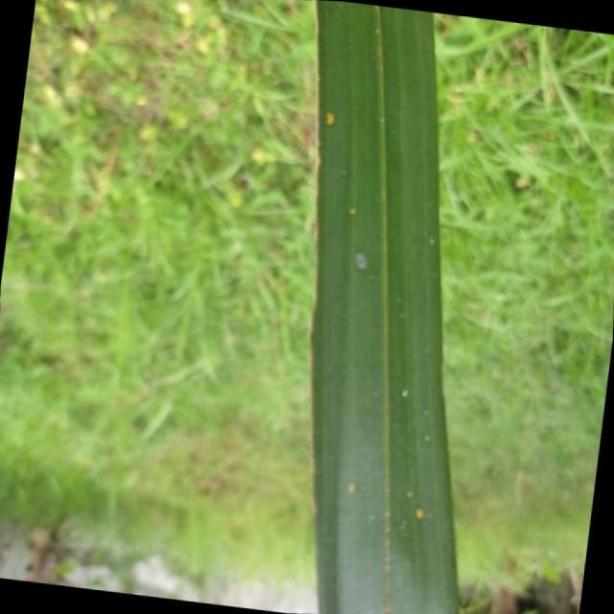Kalium: (309, 0, 457, 614)
